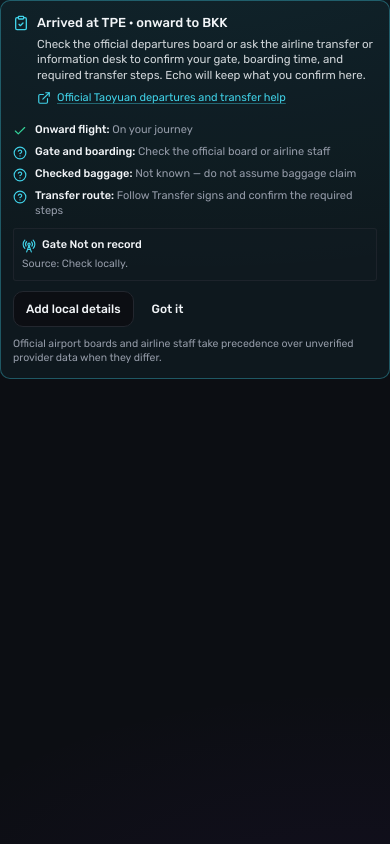
Scenario: local transfer verification › requires review before recording and states the mutation boundary
Later steps or results of the test are not shown.
Expected: the text "official departures board" is shown, top-left (37, 36), bottom-right (373, 82)
Step 1. Click the button "Add local details" → click(73, 309), box top-left (13, 291), bottom-right (134, 327)
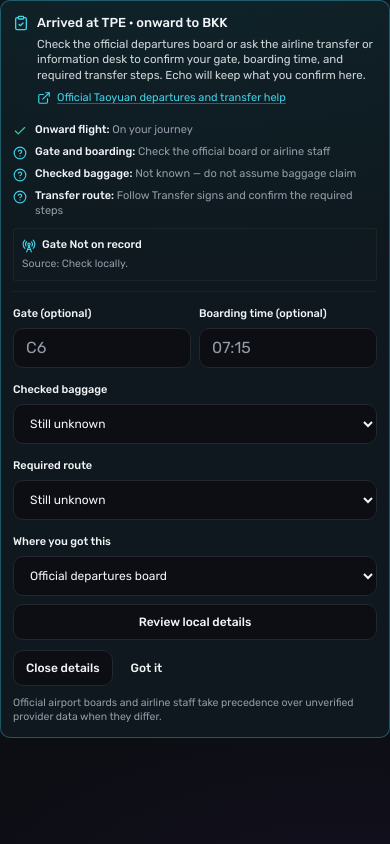
Step 2. Type "D4" into the field labelled "Gate (optional)" → (102, 348), box top-left (13, 328), bottom-right (191, 368)
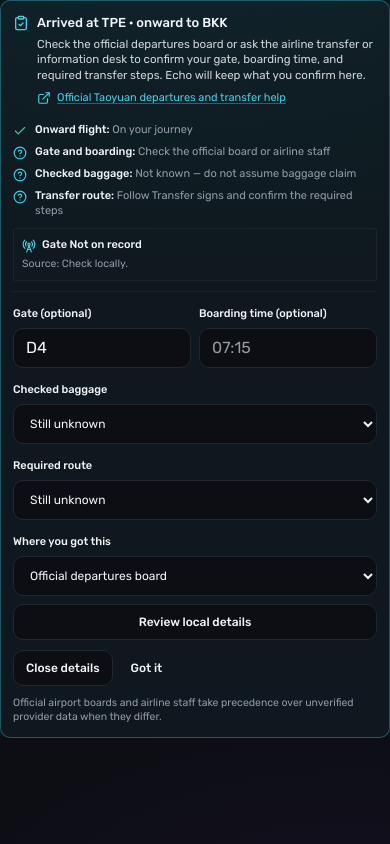
Step 3. Select "Checked through" in the dropdown labelled "Checked baggage" → (195, 424), box top-left (13, 404), bottom-right (377, 444)
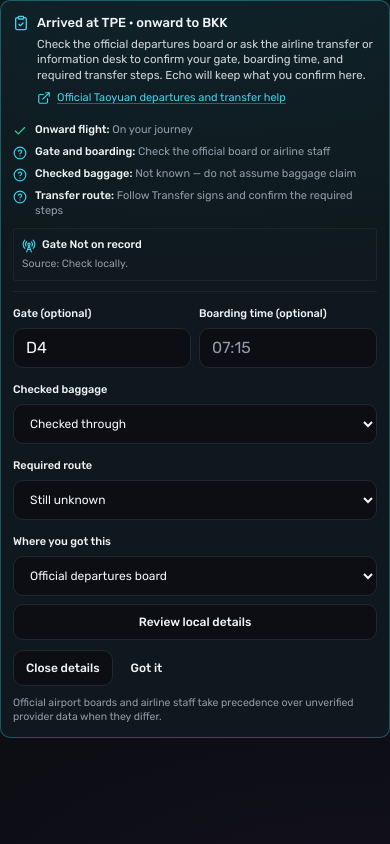
Step 4. Click the button "Review local details" → click(195, 622), box top-left (13, 604), bottom-right (377, 640)
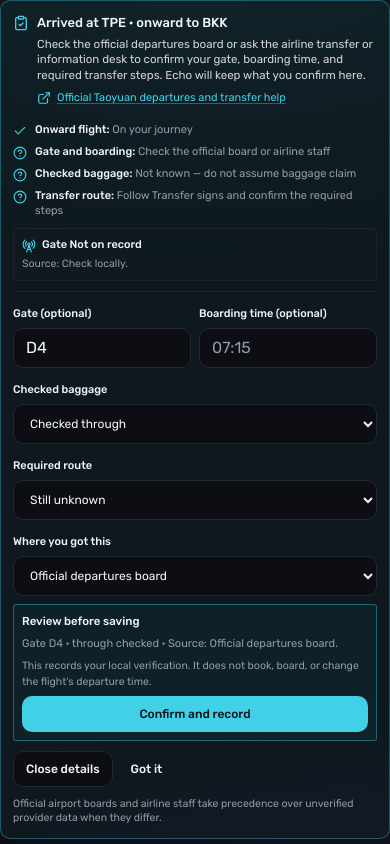
Expected: the text "does not book, board, or change" is shown, top-left (22, 659), bottom-right (359, 688)
